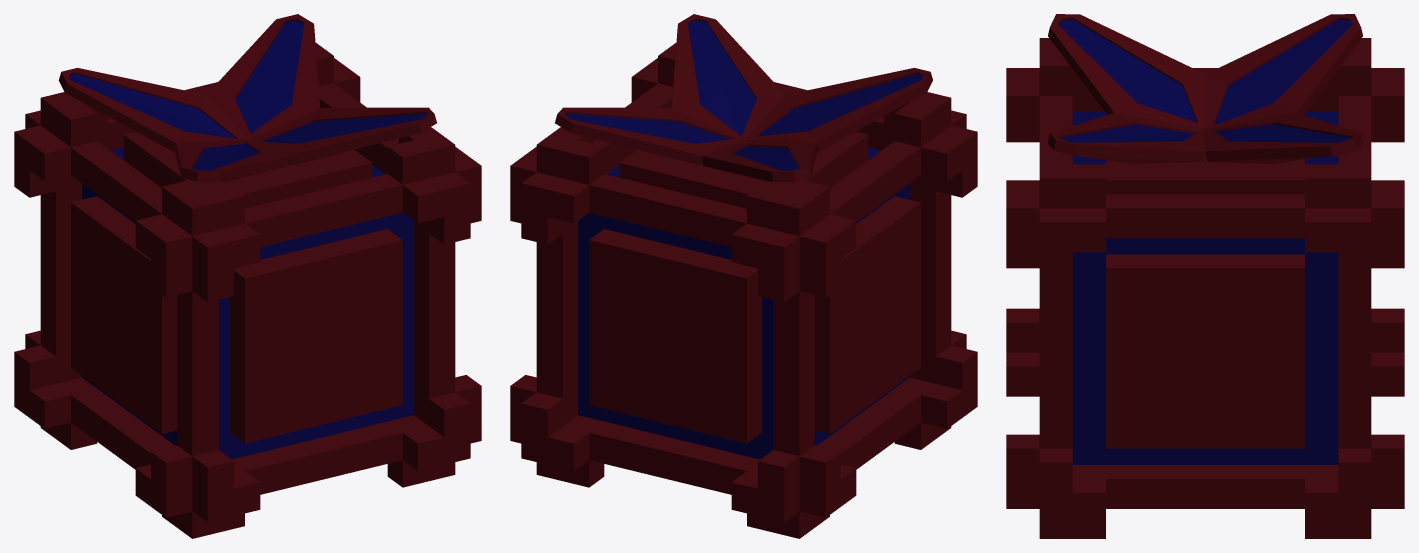
The model's file is BlueprintDataCube.fbx.
The picture shows the model from 3 angles, left to right: view 1: azimuth 30°, elevation 25°; view 2: azimuth 150°, elevation 25°; view 3: azimuth 270°, elevation 25°; orthographic projection. The views are drawn at different scales.
Visible parts, largest first — view 1: BlueprintDataCube_LOD0; view 2: BlueprintDataCube_LOD0; view 3: BlueprintDataCube_LOD0.
Boxes of the visible parts, x1,y1,x2,y2 form: BlueprintDataCube_LOD0: [14, 14, 481, 538]; BlueprintDataCube_LOD0: [510, 14, 977, 538]; BlueprintDataCube_LOD0: [1006, 14, 1404, 538].
Size of what is drawn, in the model's own units: 0.3 by 0.3258 by 0.3.
